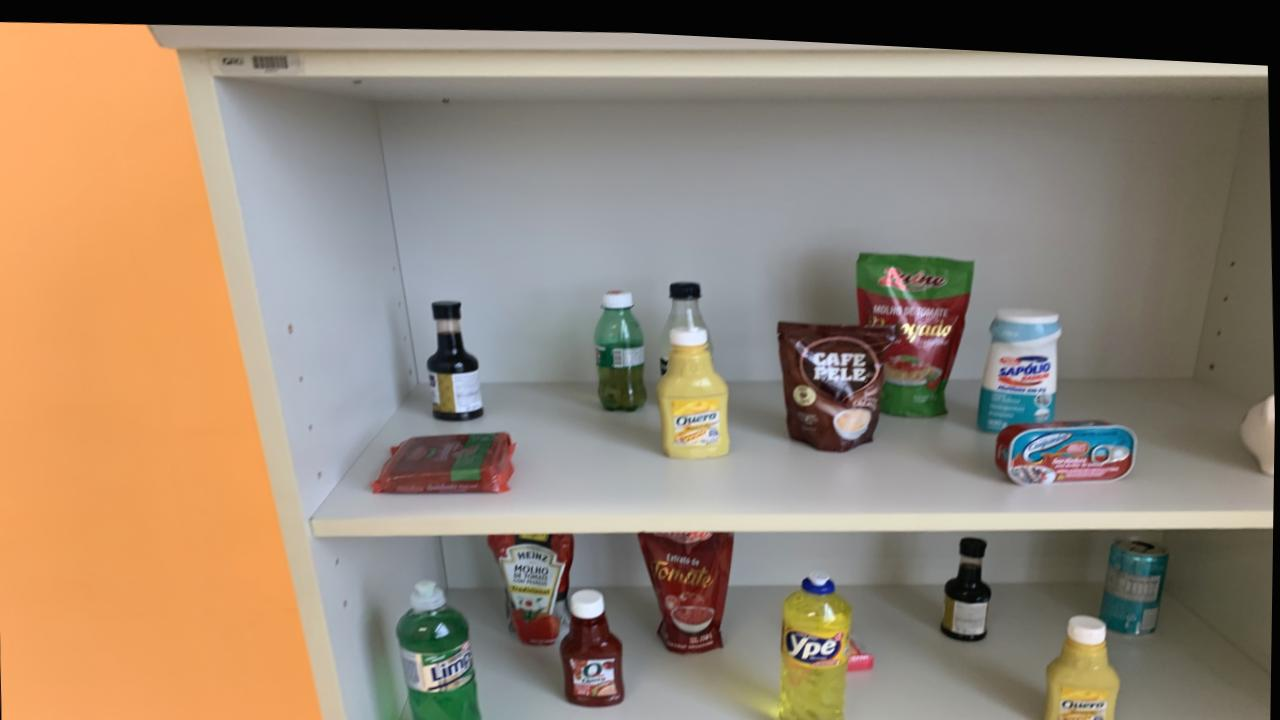Cleaner-Cleanup_Items: (978, 298, 1062, 422)
Coffee-Pantry_Items: (779, 314, 897, 442)
Detergent-Cleanup_Items: (399, 578, 484, 720), (780, 563, 854, 720)
English_Sauce-Pantry_Items: (428, 297, 484, 415), (943, 527, 993, 630)
Guarana-Drinks: (594, 283, 648, 405)
Guava-Snacks: (373, 427, 517, 488)
Ketchup-Pantry_Items: (562, 583, 625, 699)
Mustard-Pantry_Items: (658, 319, 730, 450), (1048, 603, 1122, 720)
Pig_Safe-Miscellaneous: (1241, 380, 1276, 461)
Soap-Cleanup_Items: (849, 629, 877, 661)
Tea-Drinks: (1101, 526, 1170, 622)
Tomato_Sauce-Pantry_Items: (858, 243, 975, 407), (639, 523, 735, 645), (489, 528, 575, 639)
Tuna_Can-Pantry_Items: (997, 408, 1137, 475)
